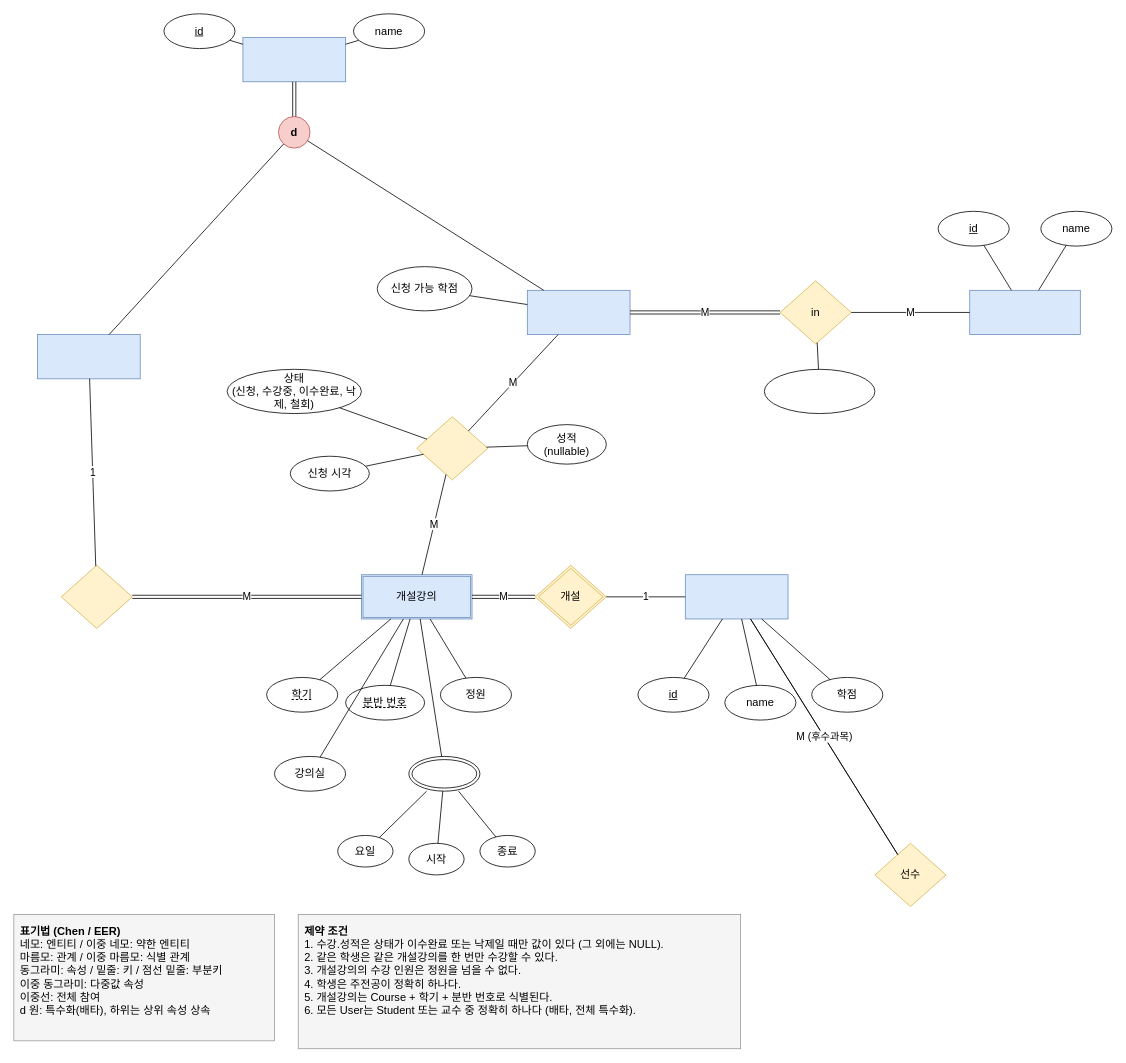
The diagram is 1126 pixels wide and 1063 high, and some of its shapes have lost their labels. Here are the shapes that lost their labels. From the top down, the box of each, then its label:
(242, 37, 346, 82): User
(527, 290, 630, 335): Student
(969, 290, 1080, 335): Department
(37, 334, 140, 379): 교수
(764, 369, 875, 414): 전공 타입 (주전공, 복수전공, 부전공)
(416, 416, 488, 480): 수강
(60, 564, 132, 628): 담당
(685, 574, 788, 619): Course
(408, 756, 480, 791): 시간
